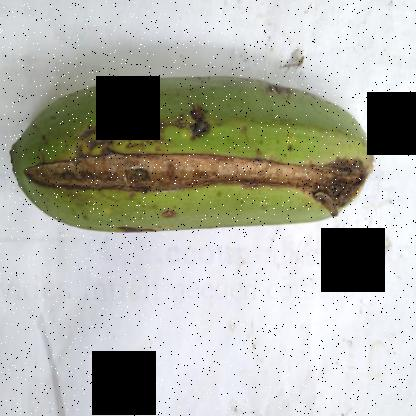rotten: (26, 77, 380, 259)
